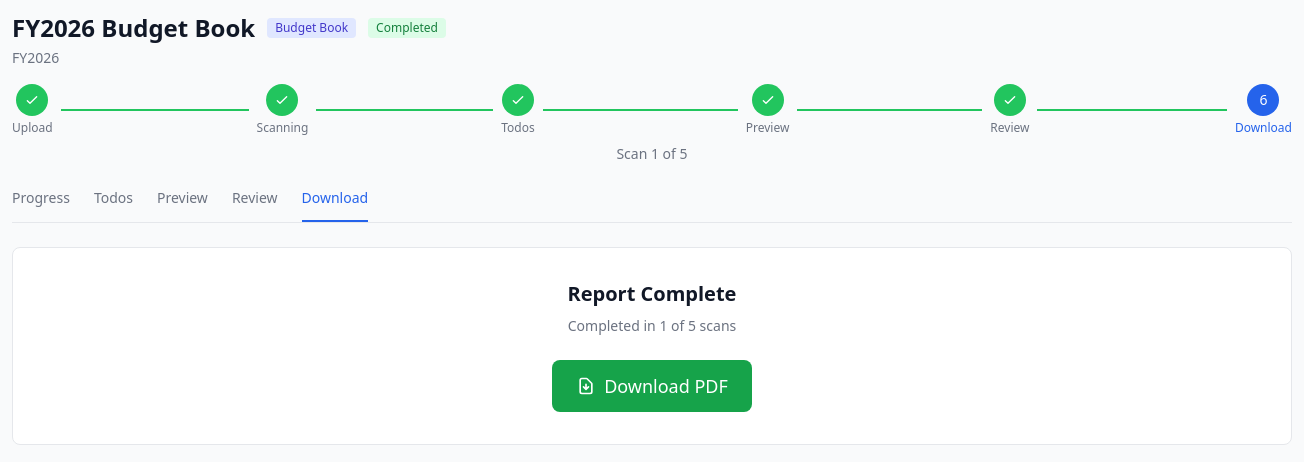
Test: ReportDetailPage › renders criteria reviews in review tab
Click the button "Review" at (255, 205), box [232,188,278,222]
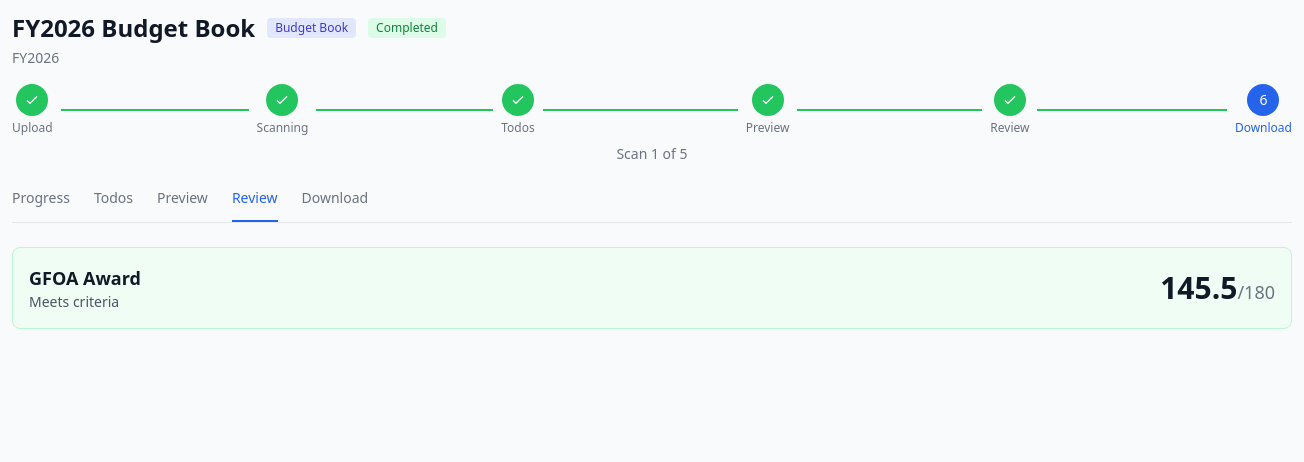
Expected: the heading "GFOA Award" is shown, [29,264,141,292]
